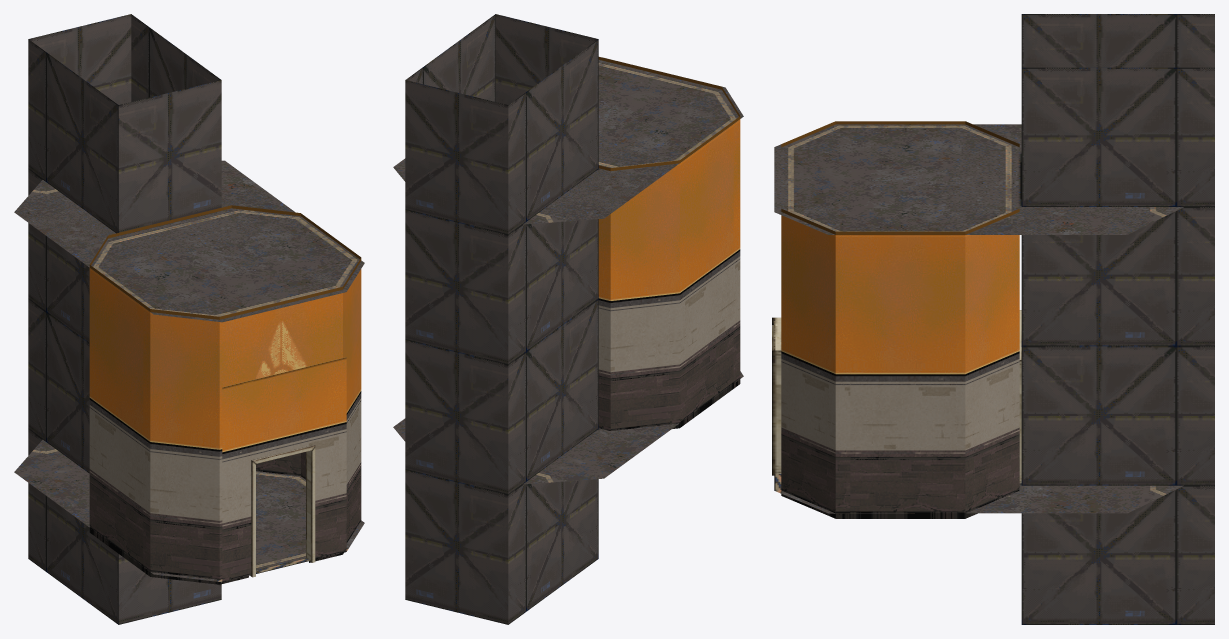
File: entry_only_elev.fbx
3 views of the same model, side by side, from view 1: azimuth 30°, elevation 25°; view 2: azimuth 150°, elevation 25°; view 3: azimuth 270°, elevation 25° (orthographic). The views are drawn at different scales.
Parts seen in each view (by area): view 1: Main Mesh, ElevCeilAndFloor, Shaft.003, Shaft, Shaft.door, Shaft.002, DoorFrame; view 2: Main Mesh, Shaft.003, Shaft.door, Shaft.002, Shaft, ElevCeilAndFloor; view 3: Main Mesh, Shaft.003, ElevCeilAndFloor, Shaft.door, Shaft.002, Shaft, DoorFrame.
Boxes of the visible parts, x1,y1,x2,y2 form: Main Mesh: (89,205,361,584); ElevCeilAndFloor: (14,160,364,582); Shaft.003: (28,14,221,233); Shaft: (28,429,221,624); Shaft.door: (28,299,89,473); Shaft.002: (28,169,89,343); DoorFrame: (250,445,315,577); Main Mesh: (598,57,740,430); Shaft.003: (405,14,598,234); Shaft.door: (405,299,598,494); Shaft.002: (405,210,598,364); Shaft: (405,470,598,624); ElevCeilAndFloor: (393,57,743,484); Main Mesh: (781,121,1019,518); Shaft.003: (1021,14,1214,206); ElevCeilAndFloor: (774,124,1183,513); Shaft.door: (1021,346,1214,485); Shaft.002: (1021,207,1214,346); Shaft: (1021,485,1214,624); DoorFrame: (772,317,781,475).
Size of the model in its own units: 340 by 800 by 576.
